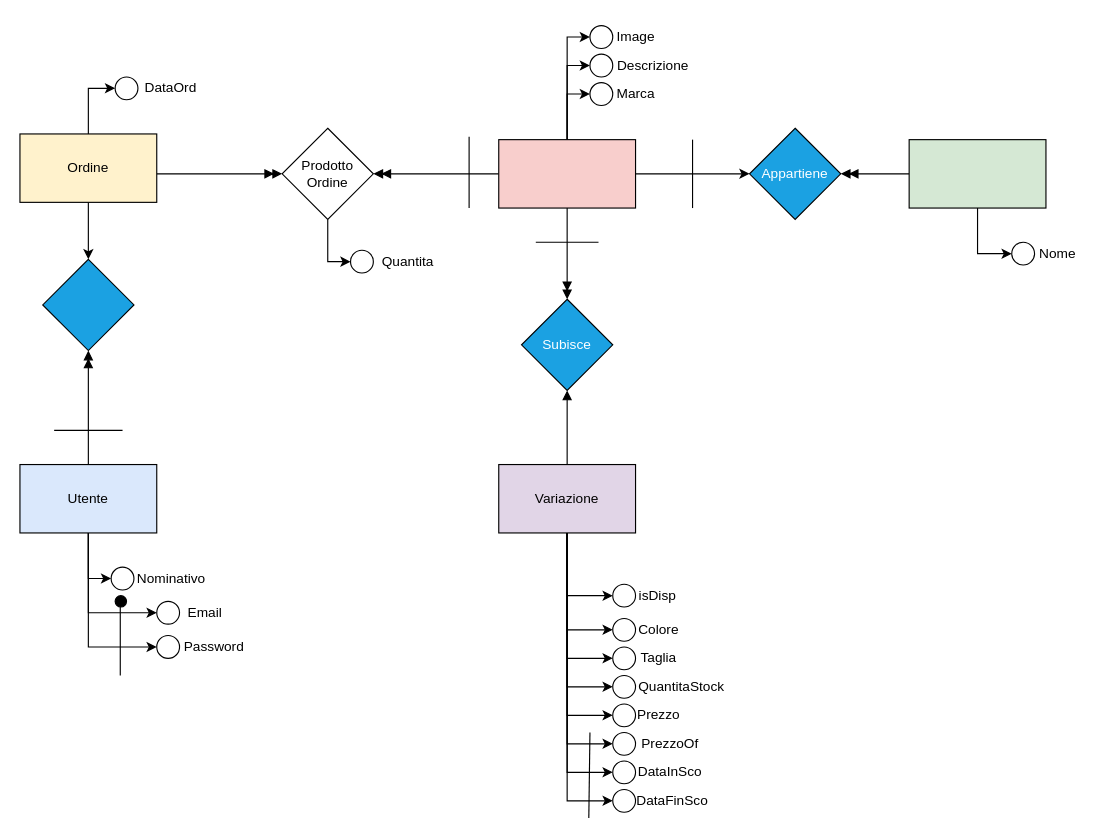
The diagram is 1112 pixels wide and 839 high, and some of its shapes have lost their labels. Here are the shapes that lost their labels. From the top down, the centre of each, then its label:
At [567,173]: "Prodotto".
At [977,173]: "Categoria".
At [88,304]: "Effettua".
